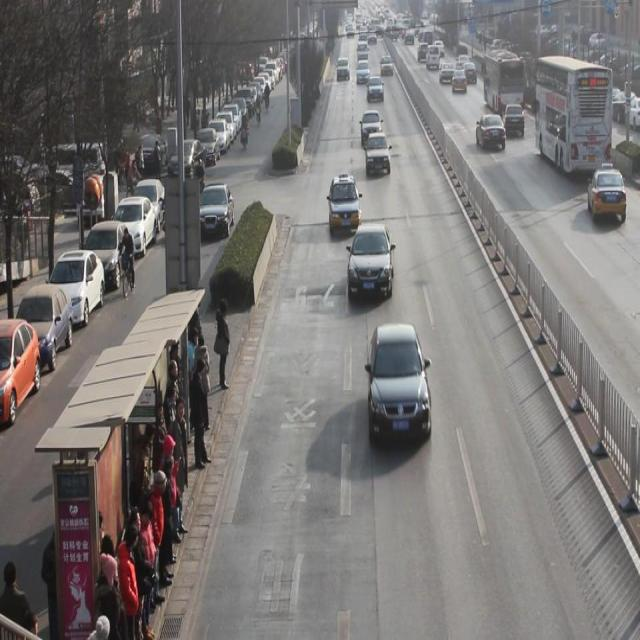car: (368, 324, 433, 443), (348, 222, 395, 302), (589, 167, 628, 223), (330, 176, 362, 234), (367, 131, 392, 177), (478, 114, 508, 152), (362, 110, 384, 148), (506, 103, 526, 139), (368, 74, 386, 105), (453, 68, 469, 93)
van: (536, 53, 612, 172), (481, 45, 525, 113)
